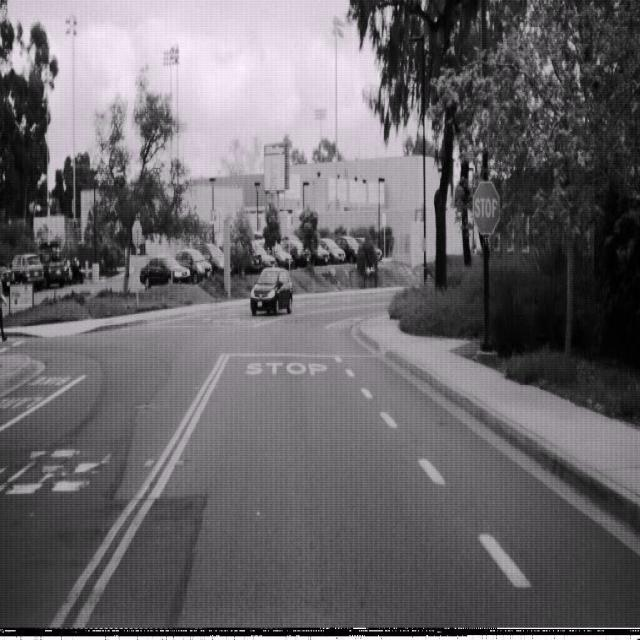stop: (472, 179, 501, 235)
